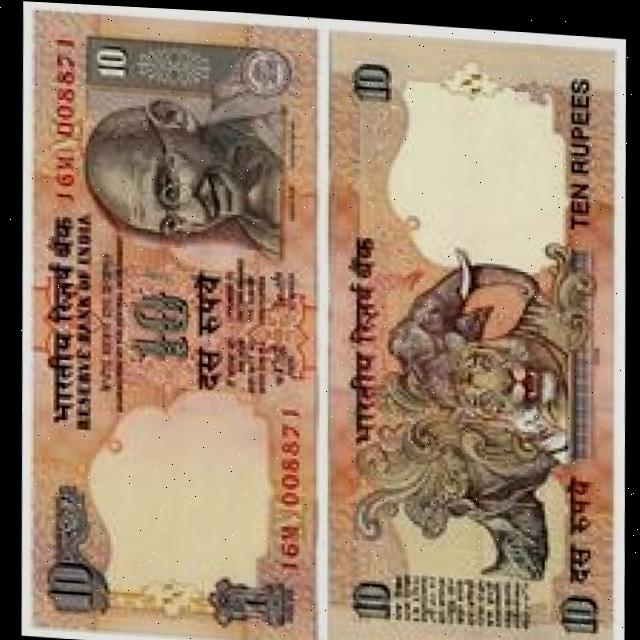banknote: (18, 4, 324, 640), (315, 24, 621, 640)
